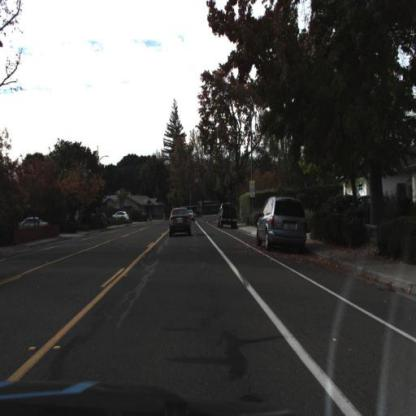car: (257, 196, 311, 252), (172, 207, 197, 239), (15, 218, 51, 236), (222, 204, 237, 230), (111, 212, 133, 225)
